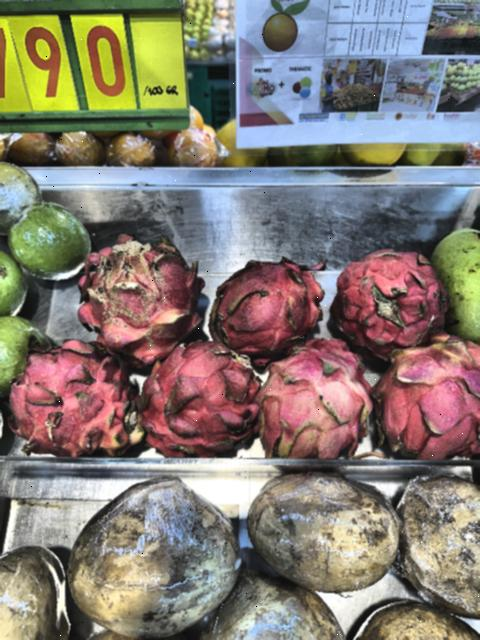buah-naga-belum-matang: (376, 329, 480, 459), (266, 342, 372, 464)
buah-naga-matang: (10, 351, 144, 464), (76, 230, 199, 352), (331, 236, 463, 348), (138, 345, 262, 451), (208, 256, 328, 346)
